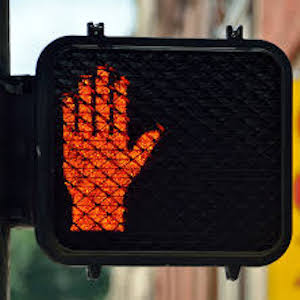red: (46, 68, 159, 232)
